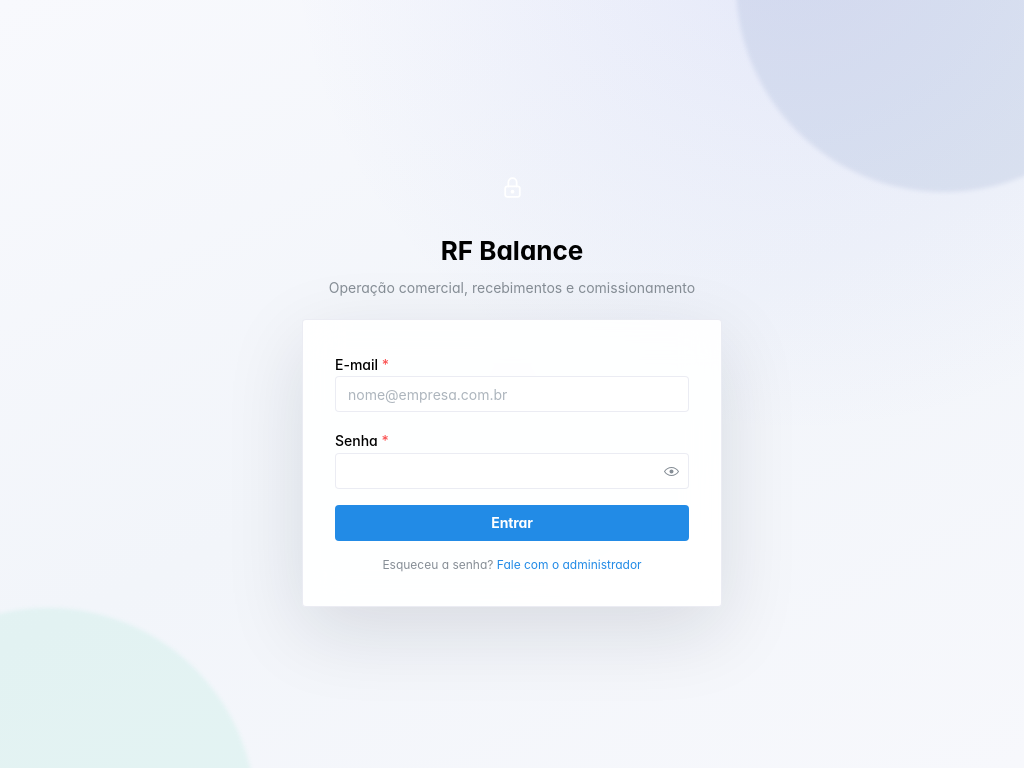
LoginPage › rejeita e-mail com formato inválido
Type "nao-e-email" into the field labelled "E-mail *" at (512, 394), box [335, 376, 689, 412]
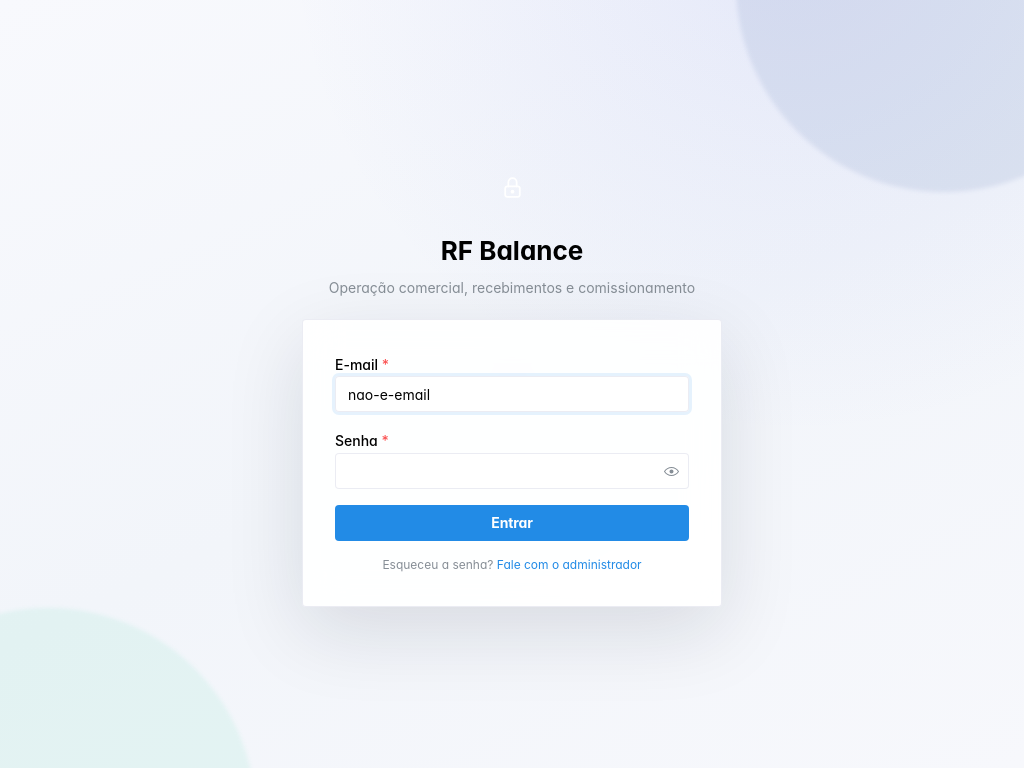
Type "algumaSenha123" into the password field labelled "Senha *" at (512, 471), box [336, 454, 688, 488]
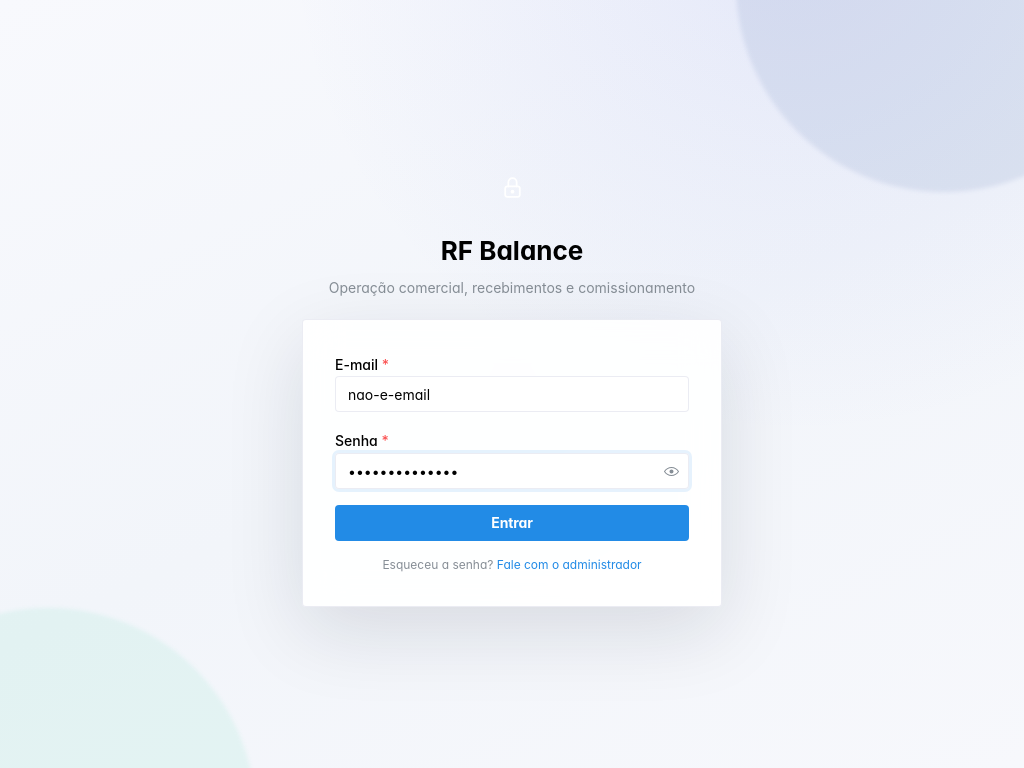
Click the button "Entrar" at (512, 523), box [335, 505, 689, 541]
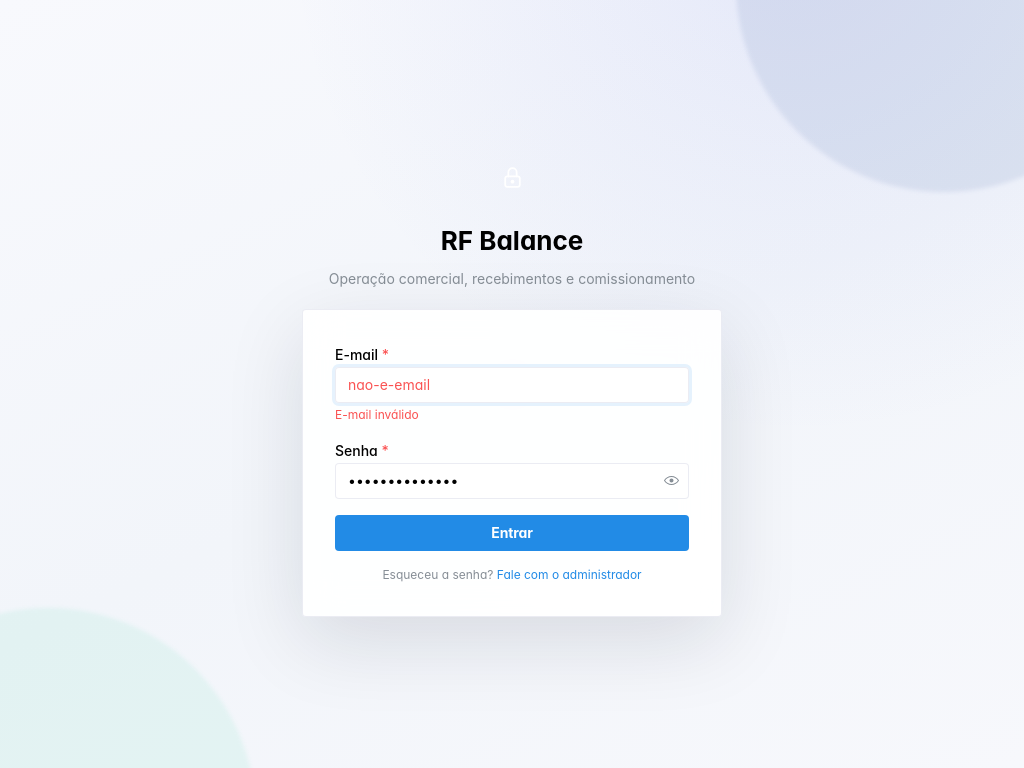
Expected: the text "E-mail inválido" is shown, [335, 407, 419, 422]
